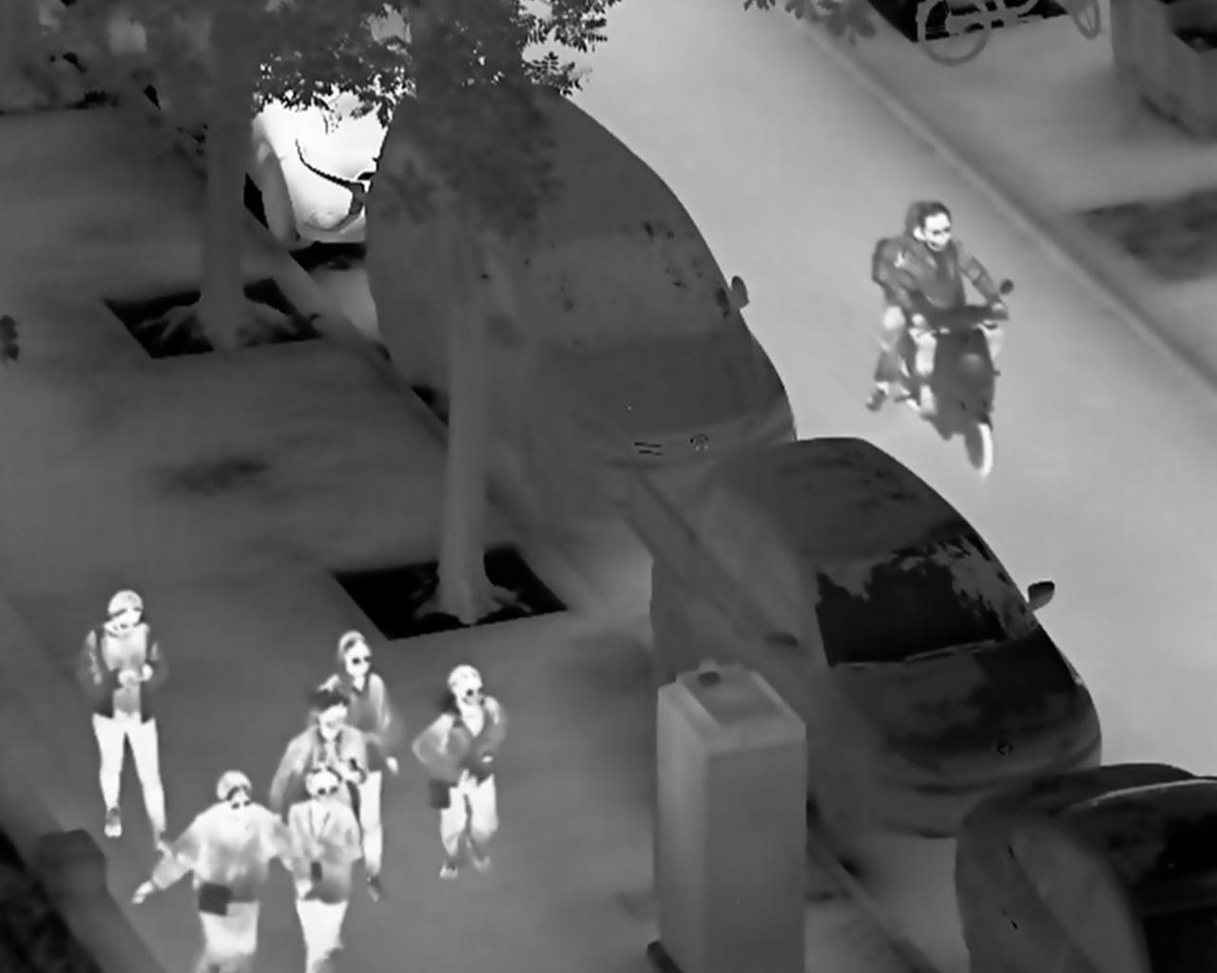person: (130, 770, 289, 973), (879, 200, 1014, 416), (71, 586, 173, 862), (305, 629, 403, 906), (411, 661, 508, 884), (286, 767, 364, 973)
